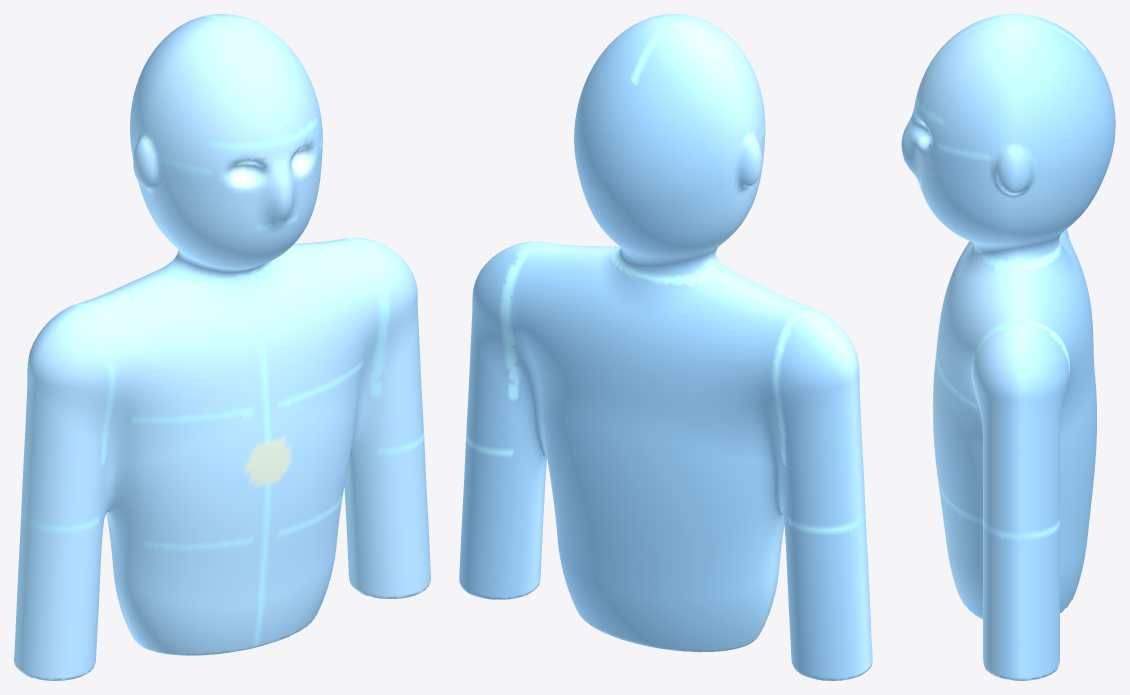
File: twin.glb
3 views of the same model, side by side, from view 1: azimuth 30°, elevation 25°; view 2: azimuth 150°, elevation 25°; view 3: azimuth 270°, elevation 25° (orthographic). The views are drawn at different scales.
Parts seen in each view (by area): view 1: AI twin; view 2: AI twin; view 3: AI twin.
Boxes of the visible parts, bbox=[...] form: AI twin: bbox=[14, 14, 430, 680]; AI twin: bbox=[459, 14, 872, 680]; AI twin: bbox=[901, 14, 1115, 680].
Bounding box in the file's own units: 0.438 × 0.6251 × 0.2129.
